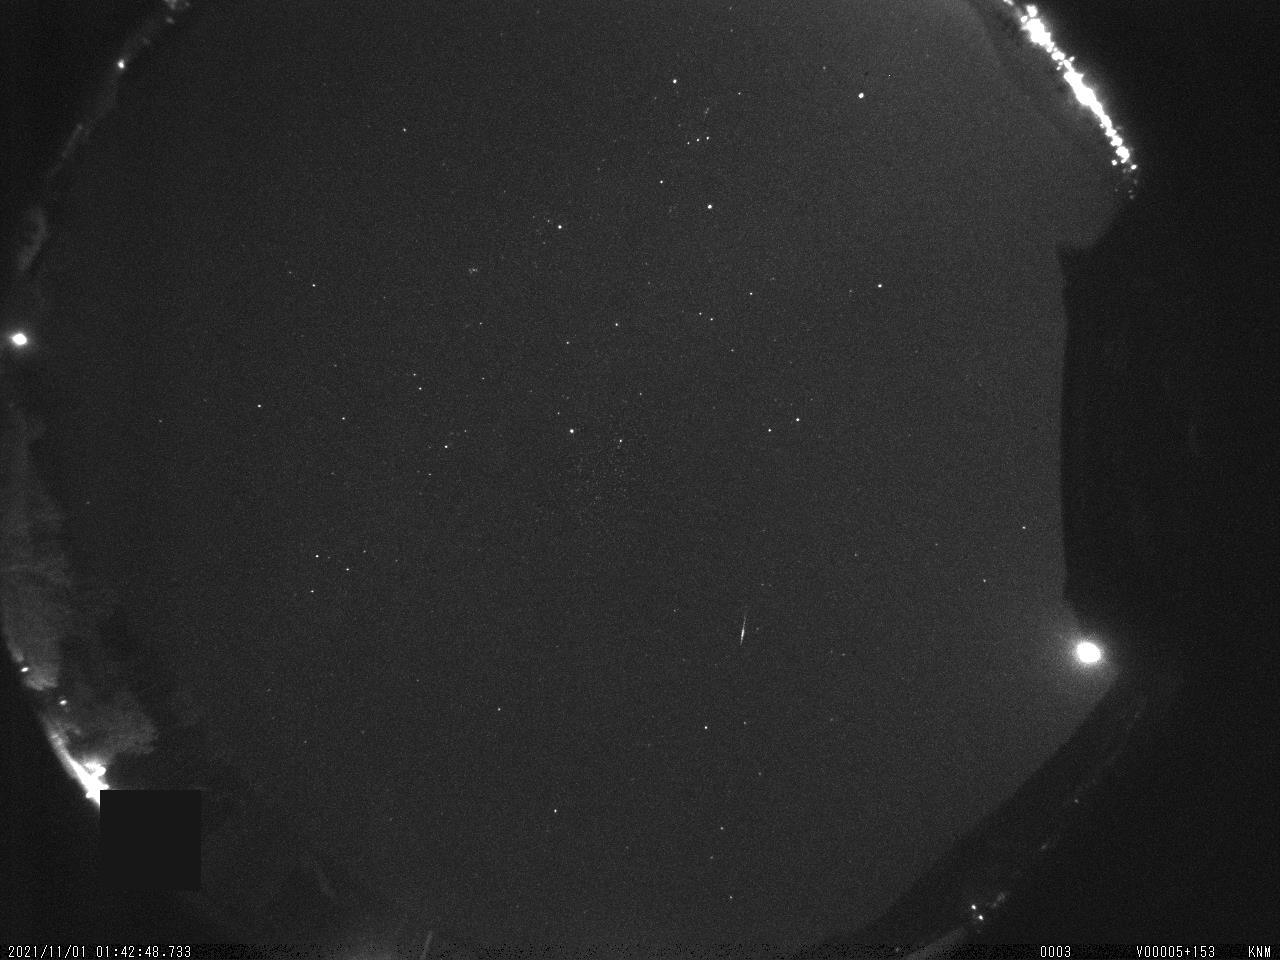meteor: (715, 592, 771, 665)
